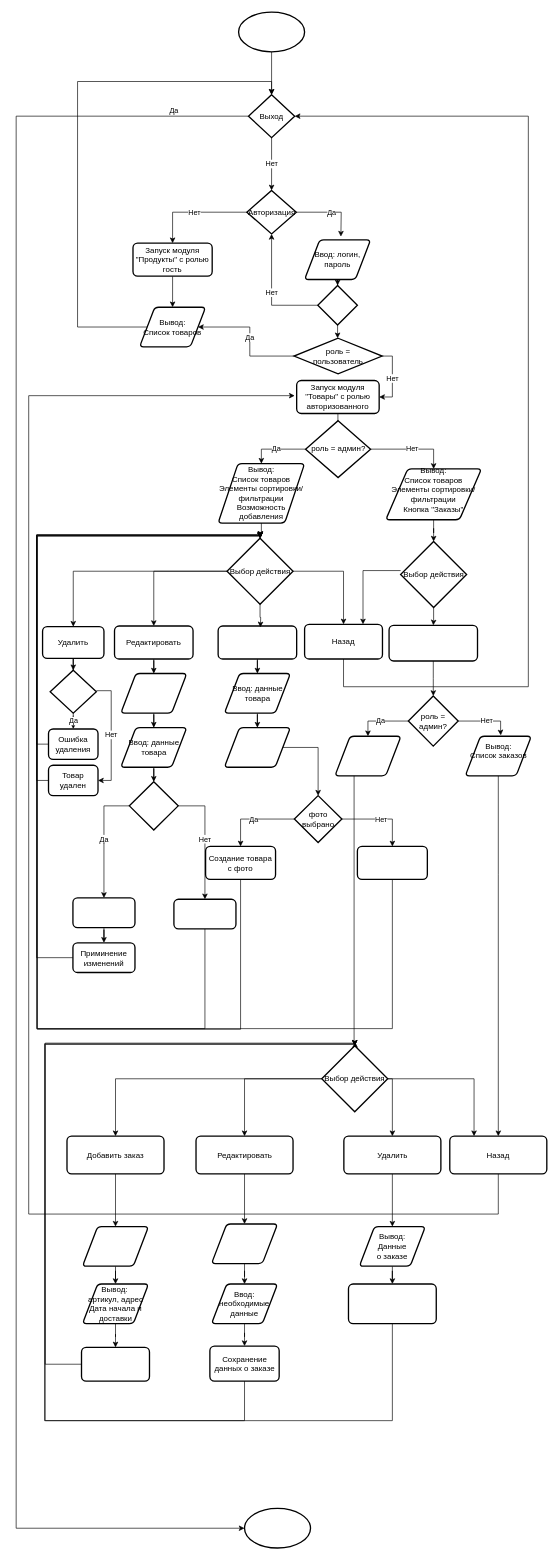
Image size: 559x1560. Some labels were removed from this diagram. The centre of each missing label's shape, as x and y in pixels:
Ввод: выбор фото: pixel 257 747
Верные данные: pixel 337 304
Выбрано новое фото: pixel 153 805
Вывод: Данные заказа: pixel 244 1243
Вывод: данные товара: pixel 153 693
Вывод: Данные товаров Статус: pixel 115 1246
Вывод: Список заказов Элемент добавления: pixel 367 755
Добавить товар: pixel 257 642
Заказы: pixel 433 642
Изменения применены: pixel 204 913
Окончание работы программы: pixel 277 1527
Создание товара с заглушкой: pixel 392 862
Сохранение заказа: pixel 115 1363
Старт программы: pixel 271 31
Товар в заказе?: pixel 73 691
Удаление заказа: pixel 392 1303
Удалено старое фото: pixel 103 912
